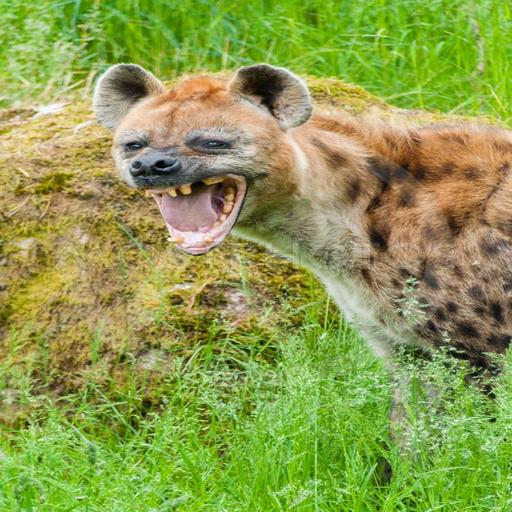Hyena: (92, 54, 512, 512)
